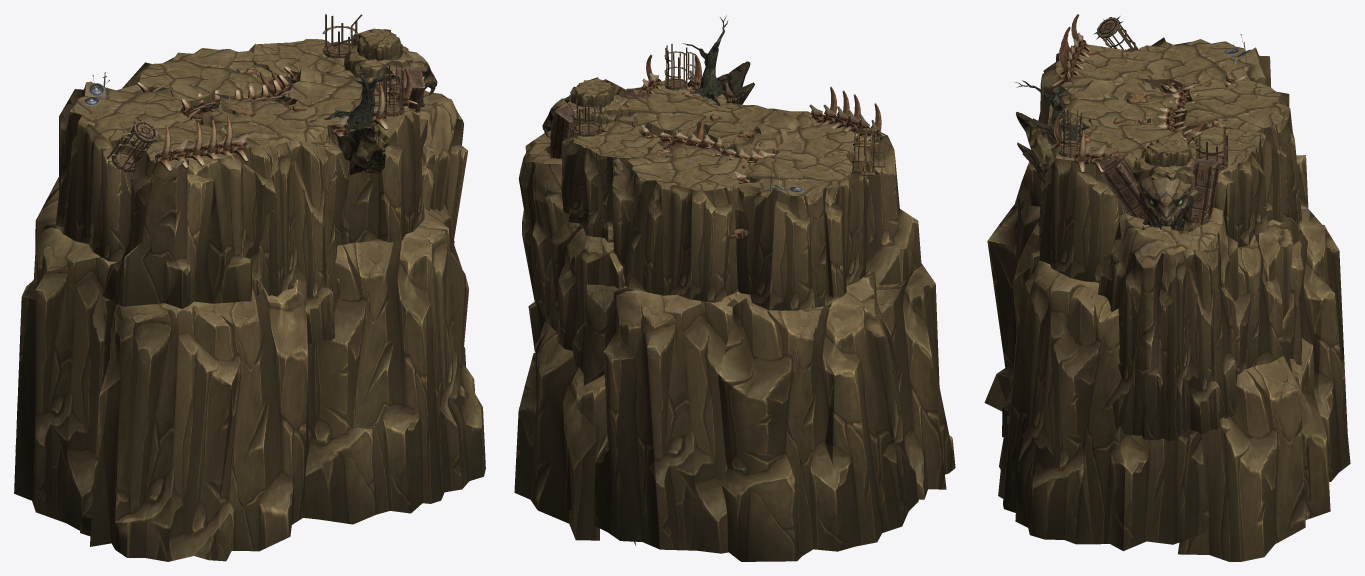
Rendered from Cell3UD.fbx.
The picture shows the model from 3 angles, left to right: view 1: azimuth 30°, elevation 25°; view 2: azimuth 150°, elevation 25°; view 3: azimuth 270°, elevation 25°; orthographic projection. The views are drawn at different scales.
Parts seen in each view (by area): view 1: Cell3UD; view 2: Cell3UD; view 3: Cell3UD.
Part boxes in pixels (left/top/right/bottom): Cell3UD: left=14, top=14, right=485, bottom=561; Cell3UD: left=514, top=15, right=955, bottom=561; Cell3UD: left=984, top=14, right=1350, bottom=561.
Size of the model in its own units: 21.26 by 22.29 by 17.18.
